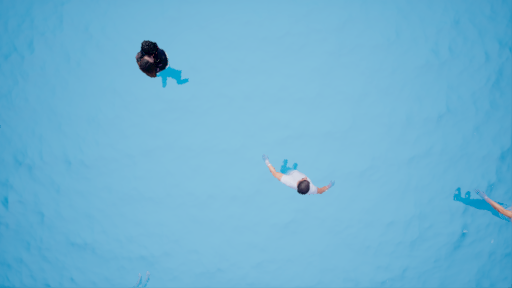person: (261, 151, 337, 201), (132, 37, 194, 95), (451, 187, 512, 225)
